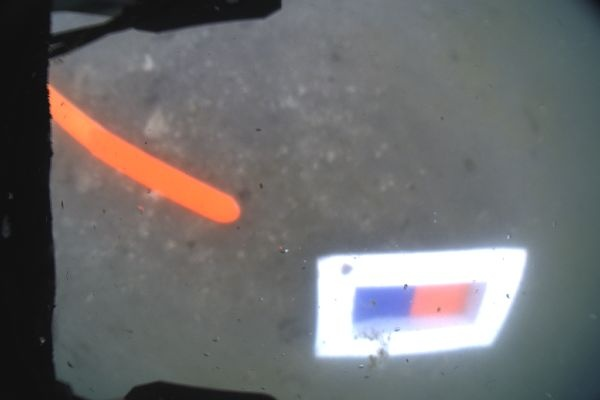bin: (314, 247, 528, 359)
bin_bleue: (353, 288, 412, 318)
bin_rouge: (412, 284, 470, 316)
path: (48, 85, 240, 225)
